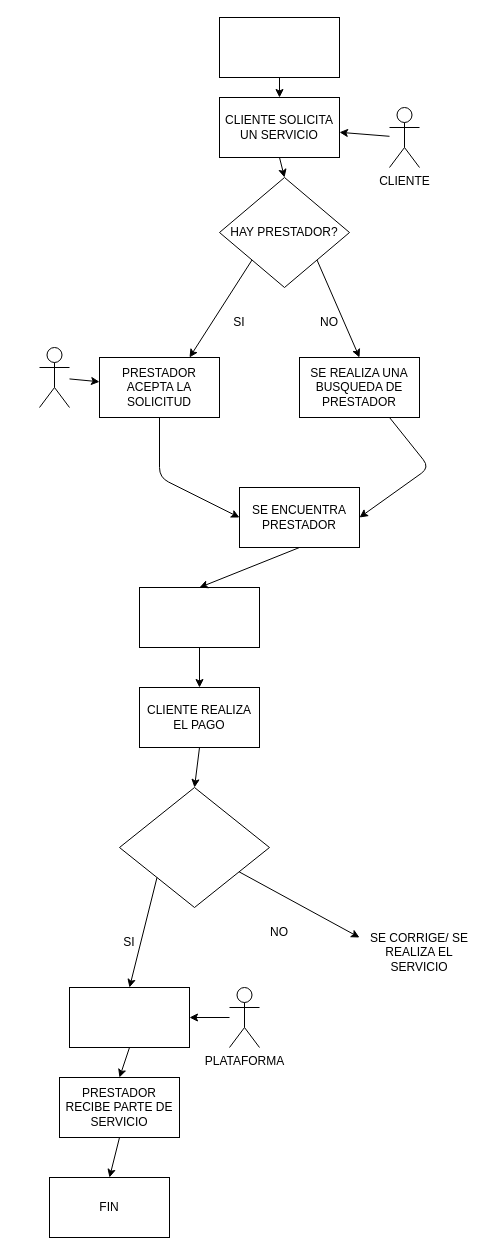
Image size: 497x1255. Some labels were removed from this diagram. The centre of each missing label's shape, as x and y in pixels:
"INICIO" belongs at (279,47).
"PLATAFORMA RETIENE EL PORCENTAJE" belongs at (129,1017).
"PRESTADOR" belongs at (54,377).
"SE REALIZA EL SERVICIO" belongs at (199,617).
"SERVICIO COMPLETADO?" belongs at (194,847).
